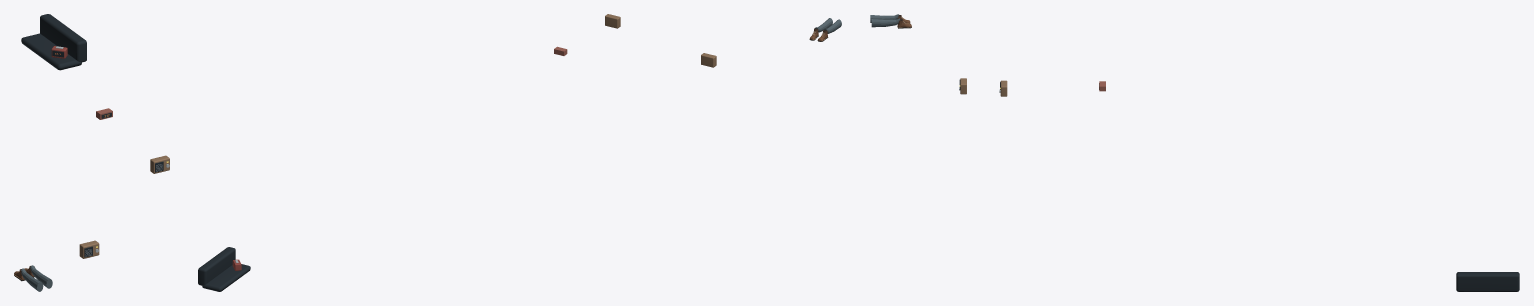
The model's file is flashback.glb.
3 renders of one model, left to right at view 1: azimuth 30°, elevation 25°; view 2: azimuth 150°, elevation 25°; view 3: azimuth 270°, elevation 25°, orthographic. The views are drawn at different scales.
Visible parts, largest first — view 1: Rear seat back, Rear seat cushion, Playing radio.001, Playing radio, left trouser leg, right trouser leg, Alarm clock case, Clock housing; view 2: Rear seat back, Rear seat cushion; view 3: Rear seat back.
Part boxes in pixels (<box>): Rear seat back: <box>40,14,86,62</box>; Rear seat cushion: <box>21,33,81,70</box>; Playing radio.001: <box>79,240,99,258</box>; Playing radio: <box>150,155,169,173</box>; left trouser leg: <box>21,268,43,291</box>; right trouser leg: <box>30,265,52,288</box>; Alarm clock case: <box>51,46,67,58</box>; Clock housing: <box>96,108,112,119</box>; Rear seat back: <box>198,247,235,285</box>; Rear seat cushion: <box>202,264,250,291</box>; Rear seat back: <box>1456,272,1519,291</box>.
Size of the model in its own units: 7.56 by 2.83 by 12.7.
